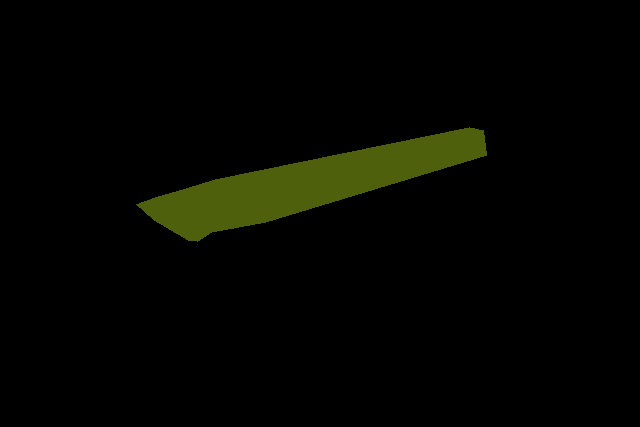Train: (136, 127, 487, 242)
